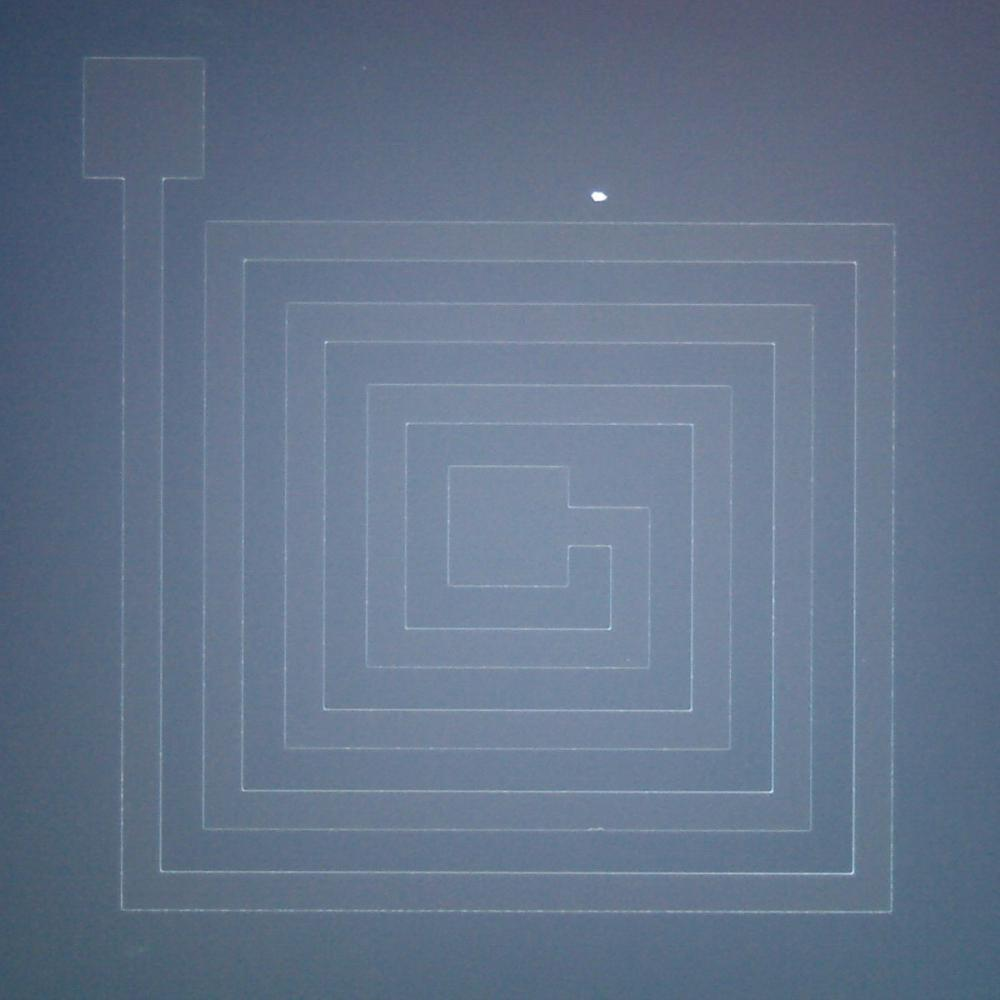spot: (586, 187, 616, 209)
